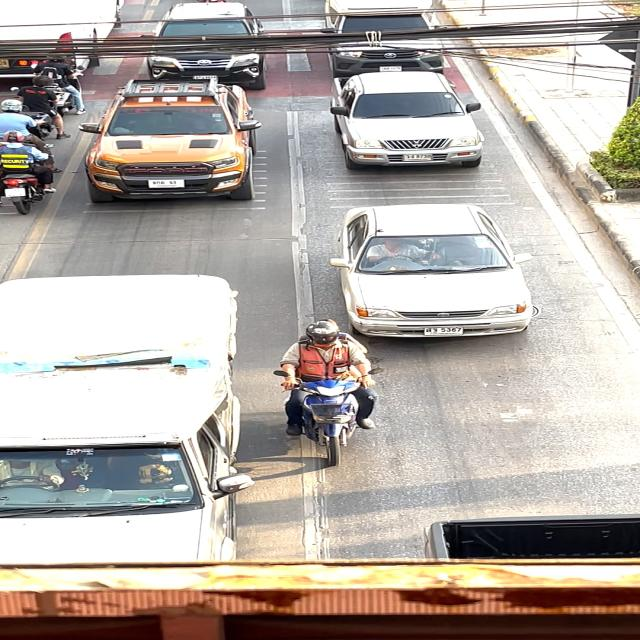car: (0, 264, 276, 562), (312, 190, 551, 358), (72, 67, 262, 206), (312, 69, 502, 174), (146, 0, 288, 97), (303, 0, 452, 81)
